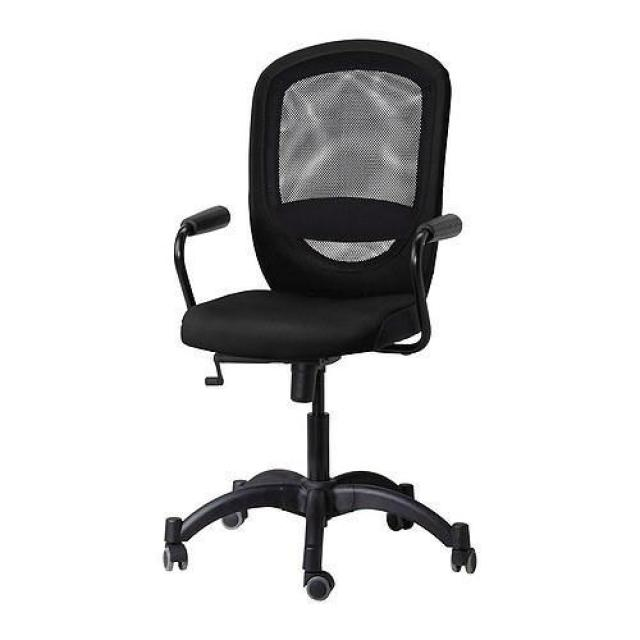swivelchair: (163, 40, 479, 603)
